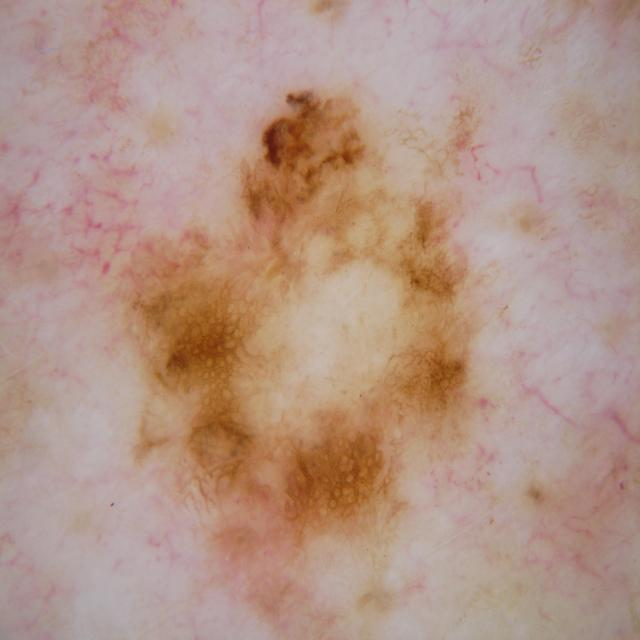Skin-Cancer Melanoma: (50, 54, 586, 640)
